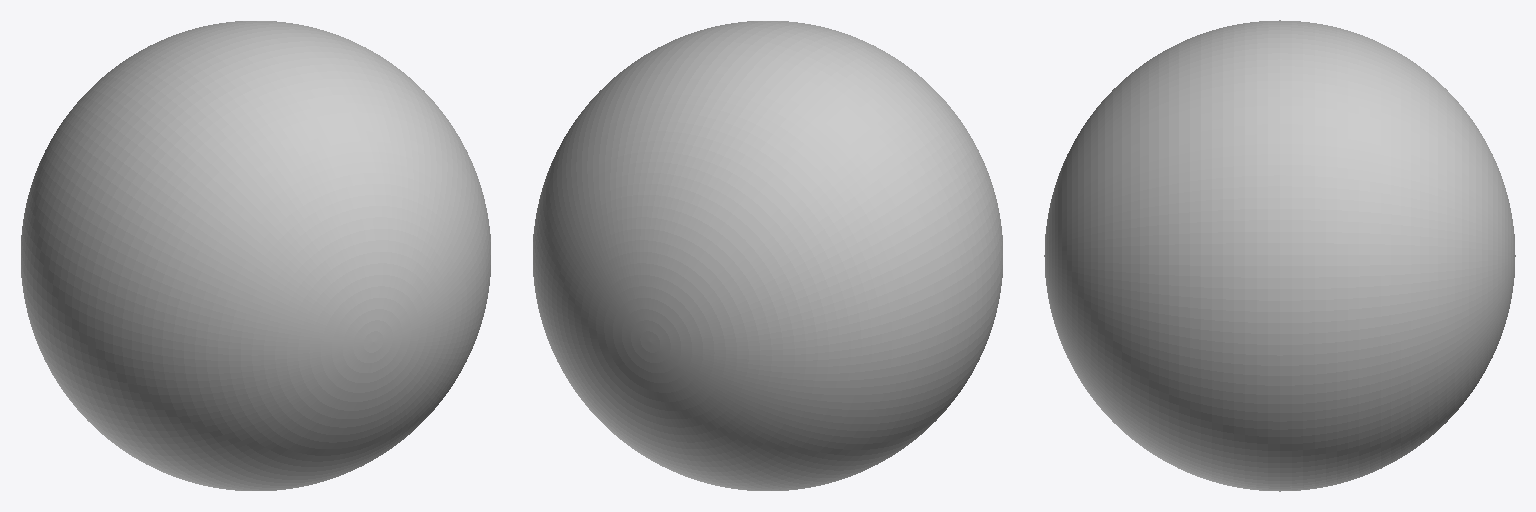
File: moon.obj
The picture shows the model from 3 angles: view 1: azimuth 30°, elevation 25°; view 2: azimuth 150°, elevation 25°; view 3: azimuth 270°, elevation 25°; orthographic projection.
Visible parts, largest first — view 1: Sphere_Sphere.002; view 2: Sphere_Sphere.002; view 3: Sphere_Sphere.002.
Part boxes in pixels (x1,y1,x2,y2): Sphere_Sphere.002: (21, 21, 490, 490); Sphere_Sphere.002: (533, 21, 1002, 490); Sphere_Sphere.002: (1044, 20, 1515, 491).
Bounding box in the file's own units: 3476 × 3476 × 3476.